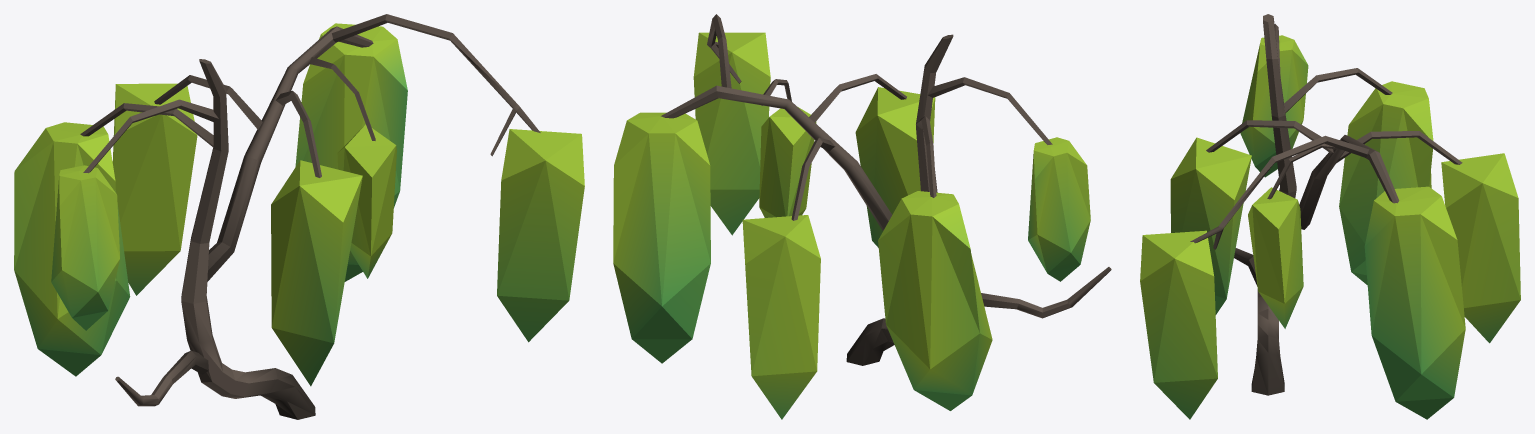
The model's file is tree_11.FBX.
3 views of the same model, side by side, from view 1: azimuth 30°, elevation 25°; view 2: azimuth 150°, elevation 25°; view 3: azimuth 270°, elevation 25° (orthographic). The views are drawn at different scales.
Visible parts, largest first — view 1: tree_11; view 2: tree_11; view 3: tree_11.
Boxes of the visible parts, x1,y1,x2,y2 form: tree_11: (14, 14, 584, 419); tree_11: (613, 14, 1111, 419); tree_11: (1140, 14, 1520, 419).
Size of the model in its own units: 474 by 358 by 373.
